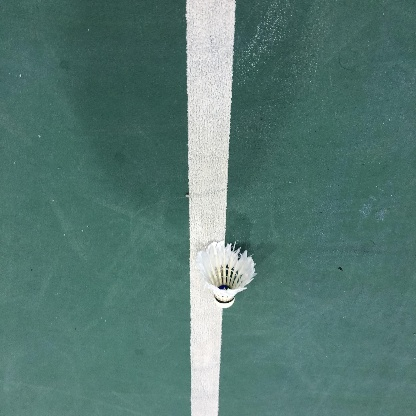ball_single: (197, 242, 255, 308)
